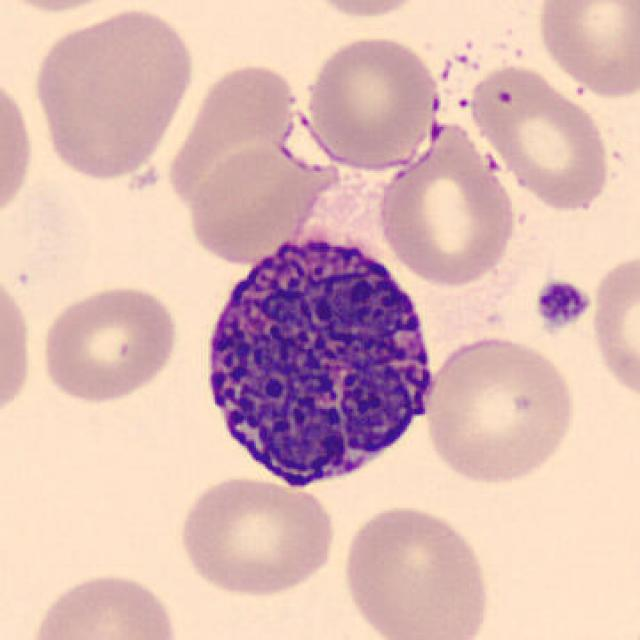Basophil: (192, 218, 448, 501)
Platelets: (532, 275, 594, 332), (430, 94, 443, 116)
RBC: (27, 3, 197, 184), (375, 118, 521, 289), (420, 332, 580, 488), (464, 60, 613, 213), (336, 500, 496, 640), (174, 471, 340, 601), (162, 58, 300, 214), (181, 140, 338, 266), (300, 32, 441, 169), (36, 280, 182, 406), (23, 566, 187, 640), (533, 0, 638, 100), (586, 245, 640, 407), (0, 65, 37, 230), (0, 266, 37, 423), (300, 0, 432, 21), (0, 0, 139, 14)
